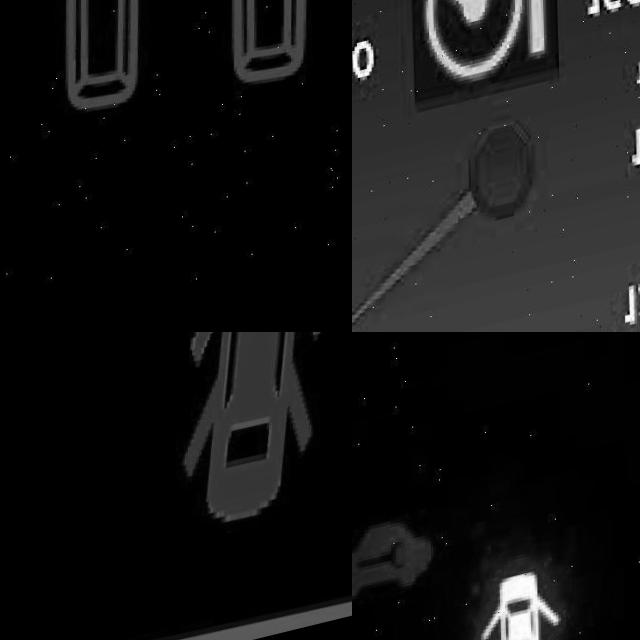Electronic Power Steering Warning: (419, 0, 553, 106)
